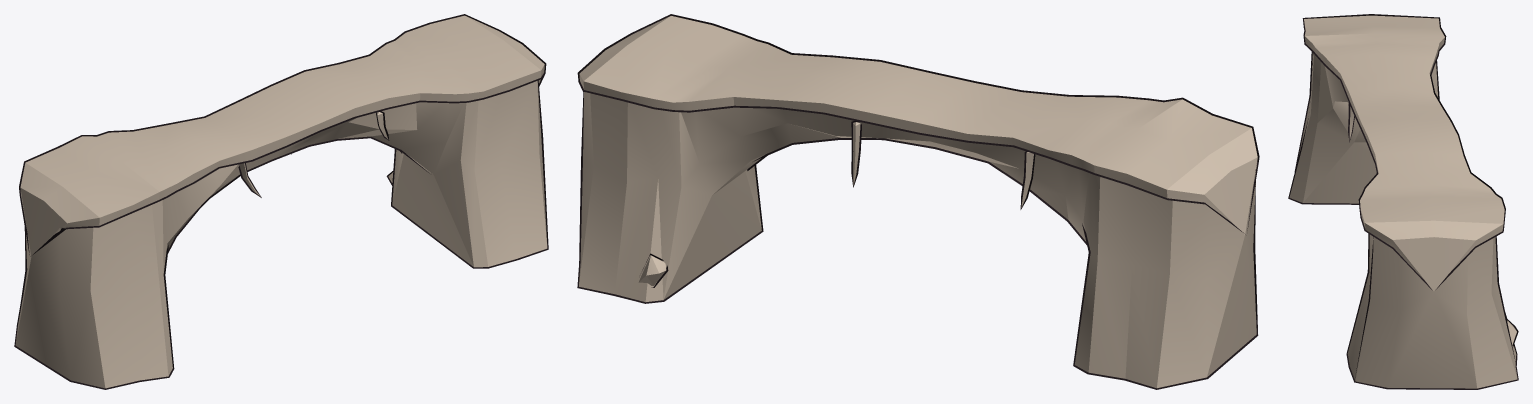
The model's file is SM_Web_Bridge_01.fbx.
3 views of the same model, side by side, from view 1: azimuth 30°, elevation 25°; view 2: azimuth 150°, elevation 25°; view 3: azimuth 270°, elevation 25° (orthographic). The views are drawn at different scales.
Parts seen in each view (by area): view 1: SM_Web_Bridge_01; view 2: SM_Web_Bridge_01; view 3: SM_Web_Bridge_01.
Part boxes in pixels (x1,y1,x2,y2): SM_Web_Bridge_01: [14, 14, 548, 389]; SM_Web_Bridge_01: [577, 14, 1259, 389]; SM_Web_Bridge_01: [1288, 14, 1518, 389].
Bounding box in the file's own units: 71.57 × 23.5 × 29.24.
